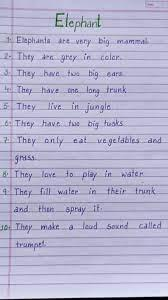text: (0, 219, 163, 235), (2, 134, 163, 148), (1, 185, 157, 199), (1, 168, 145, 182), (5, 35, 150, 48), (2, 99, 112, 114), (4, 117, 124, 130), (4, 84, 127, 96), (2, 68, 124, 80), (3, 51, 123, 63), (11, 203, 103, 217), (54, 11, 103, 33), (15, 238, 49, 253), (14, 152, 36, 165), (145, 2, 155, 7)
